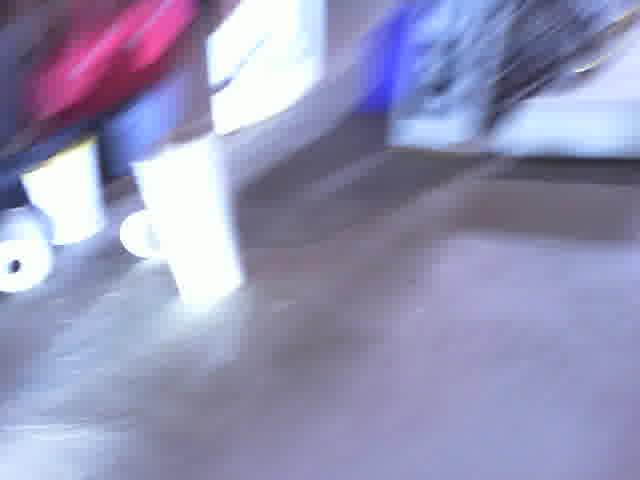coral: (131, 140, 243, 310), (0, 207, 55, 300), (121, 212, 165, 256)
